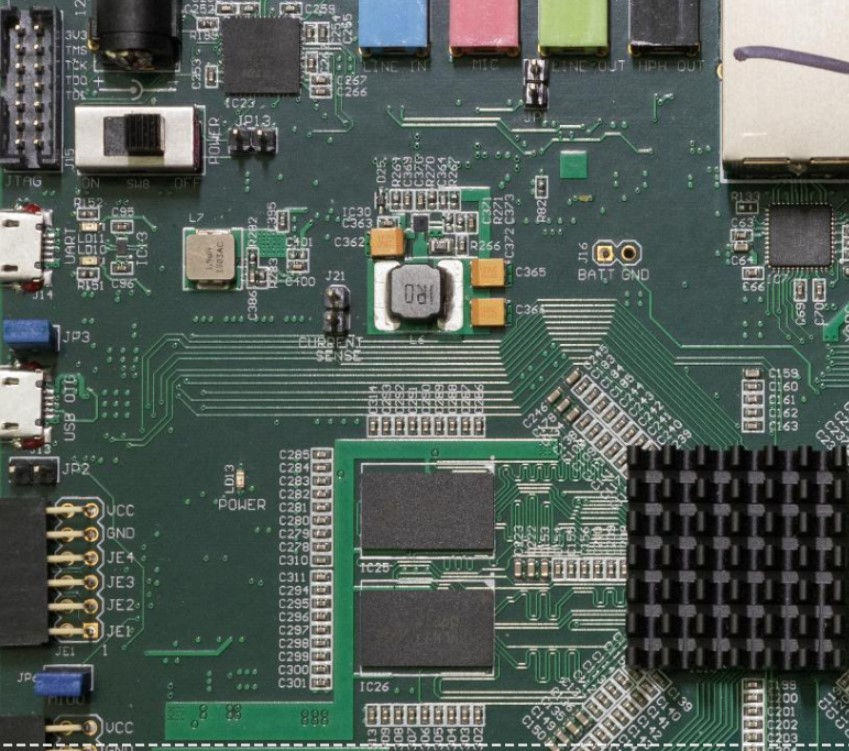Induktor: (386, 263, 447, 324), (183, 230, 239, 289)
